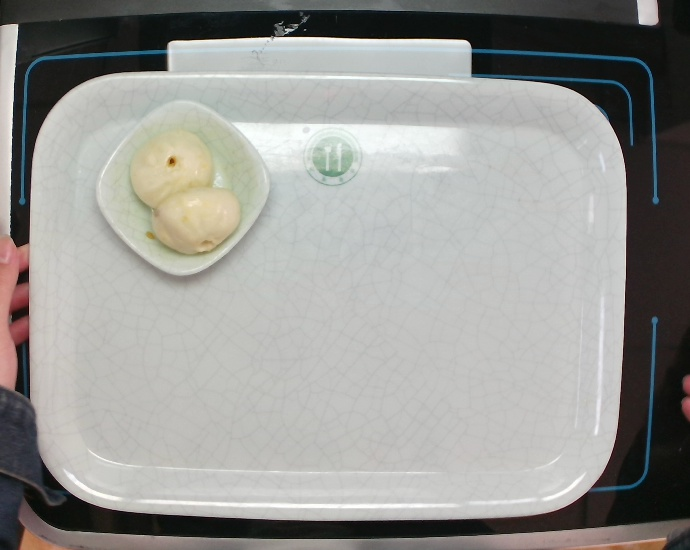JYsf-Si_Fang_Die: (86, 94, 276, 281)
